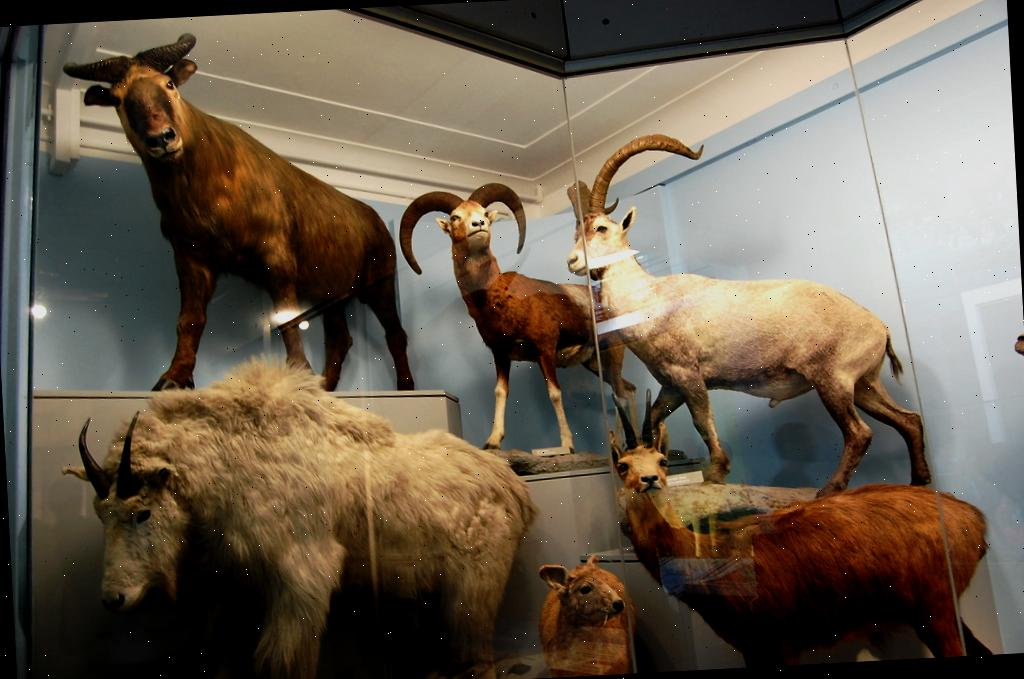Sheep: (47, 350, 558, 679), (558, 117, 934, 516), (59, 20, 415, 408), (397, 173, 642, 464), (542, 547, 642, 677)
